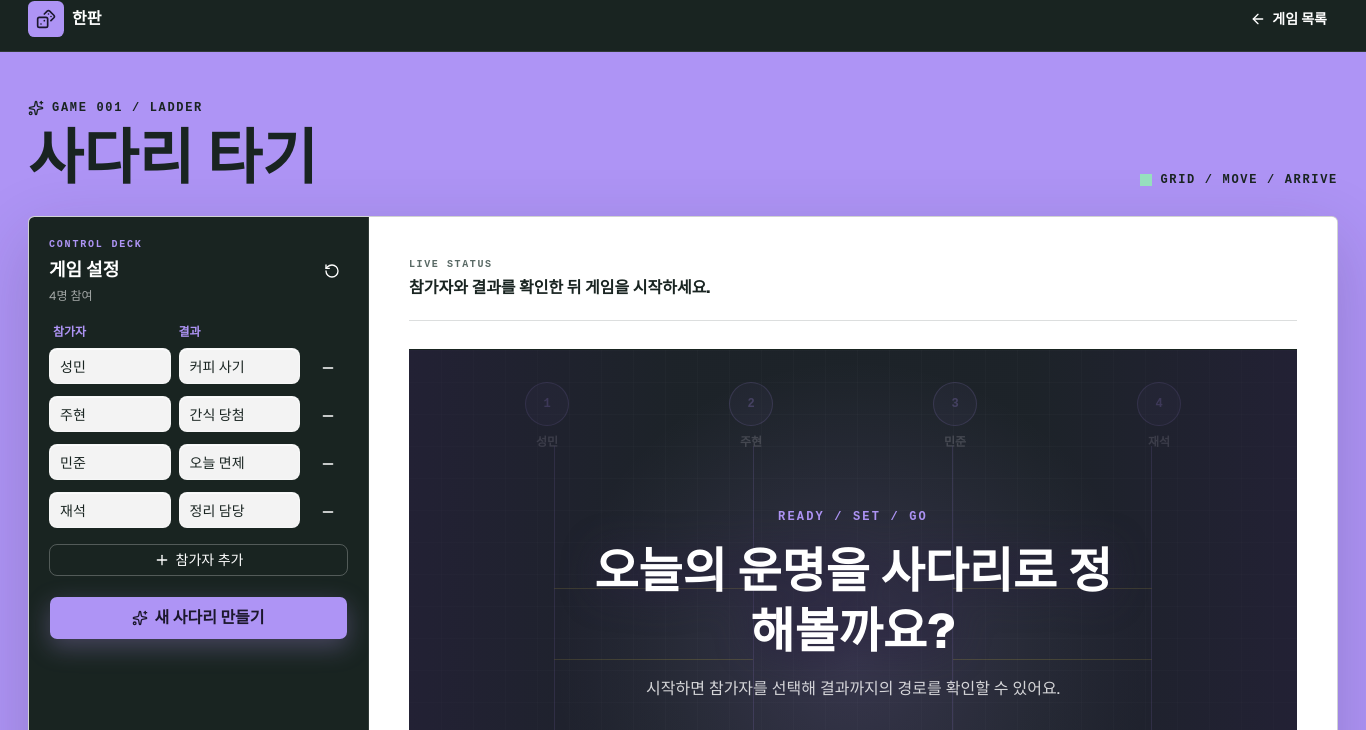
Test case: LadderGame › 중복 참가자가 있으면 오류를 표시하고 시작 패널에 머문다
Replace the text in the field with test id "ladder-participant-input" with "성민". click: (110, 414)
box: [49,396,170,432]
(page scrolled)
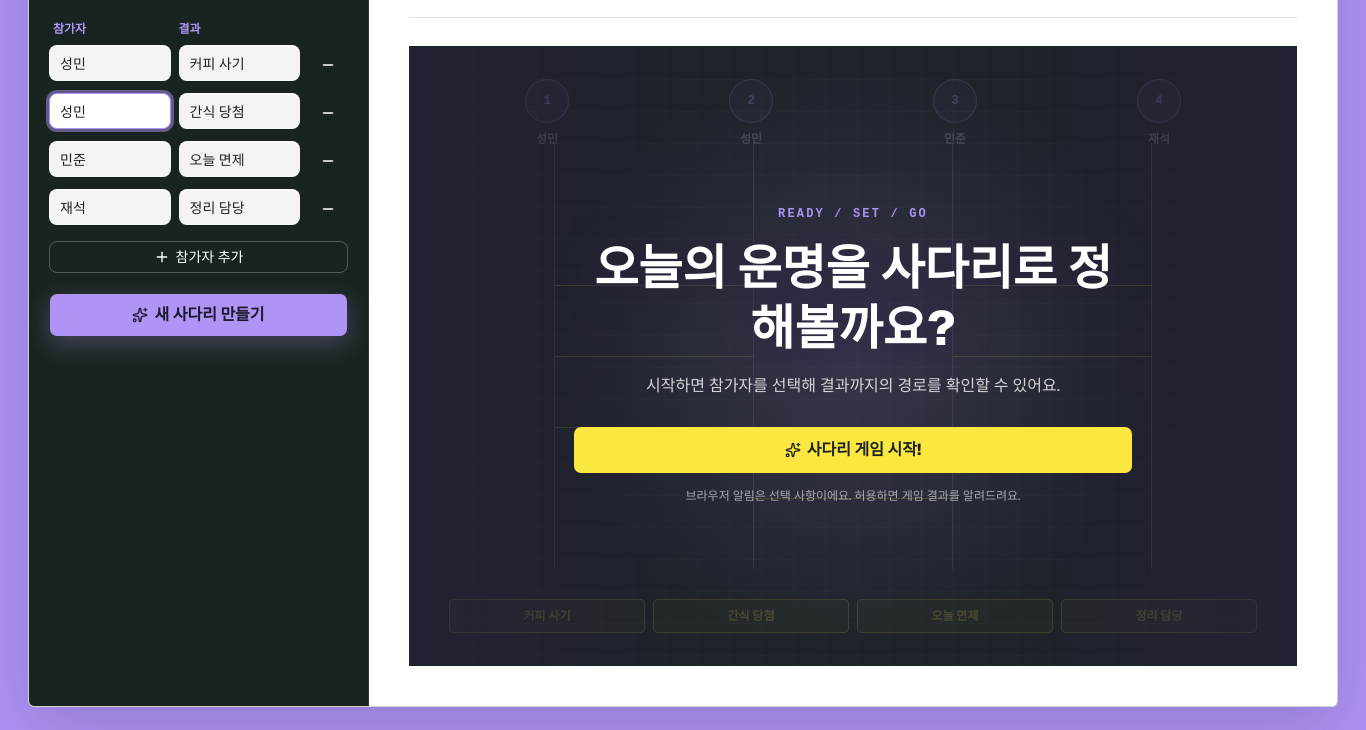
Click the button "사다리 게임 시작!". click: (853, 450)
box: [573,426,1133,474]
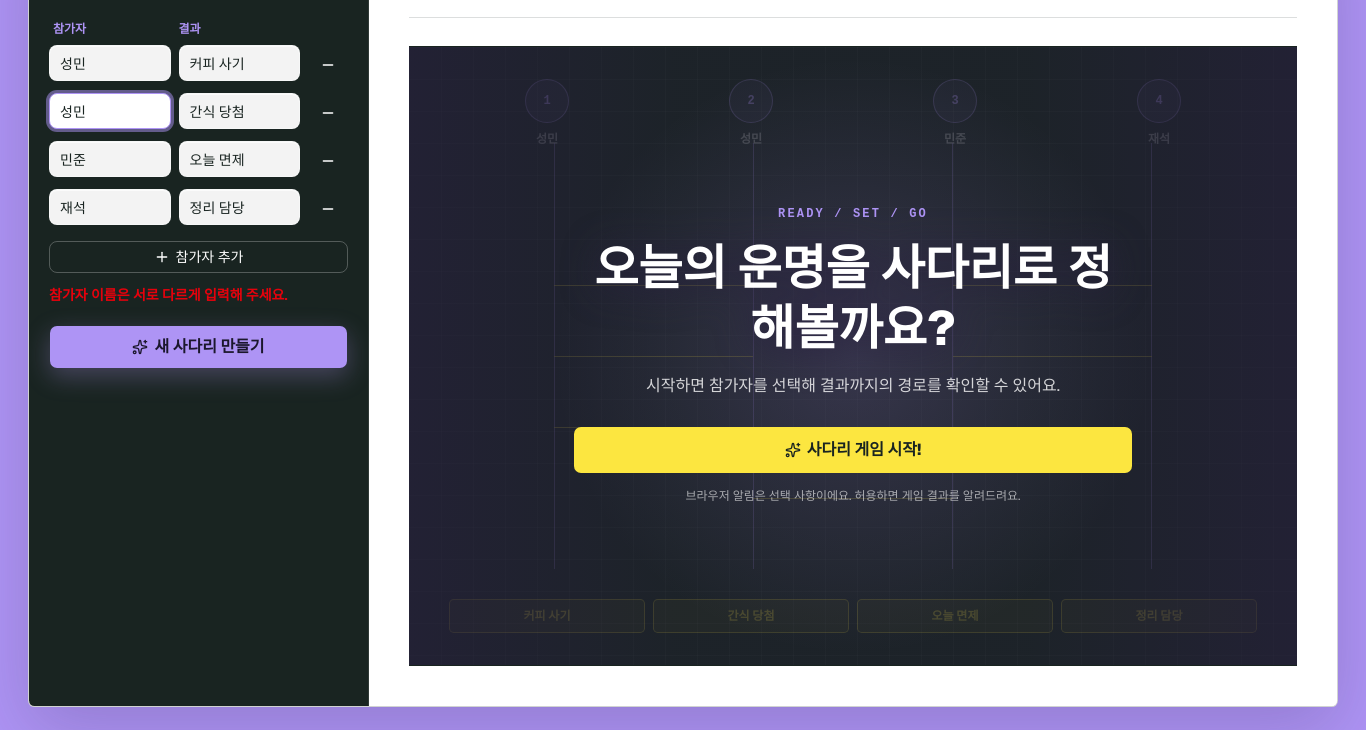
Expected: the element with test id "ladder-start-panel" is shown, [409,46,1297,666]
Expected: the message reads "참가자 이름은 서로 다르게 입력해 주세요.", [49,286,288,304]
